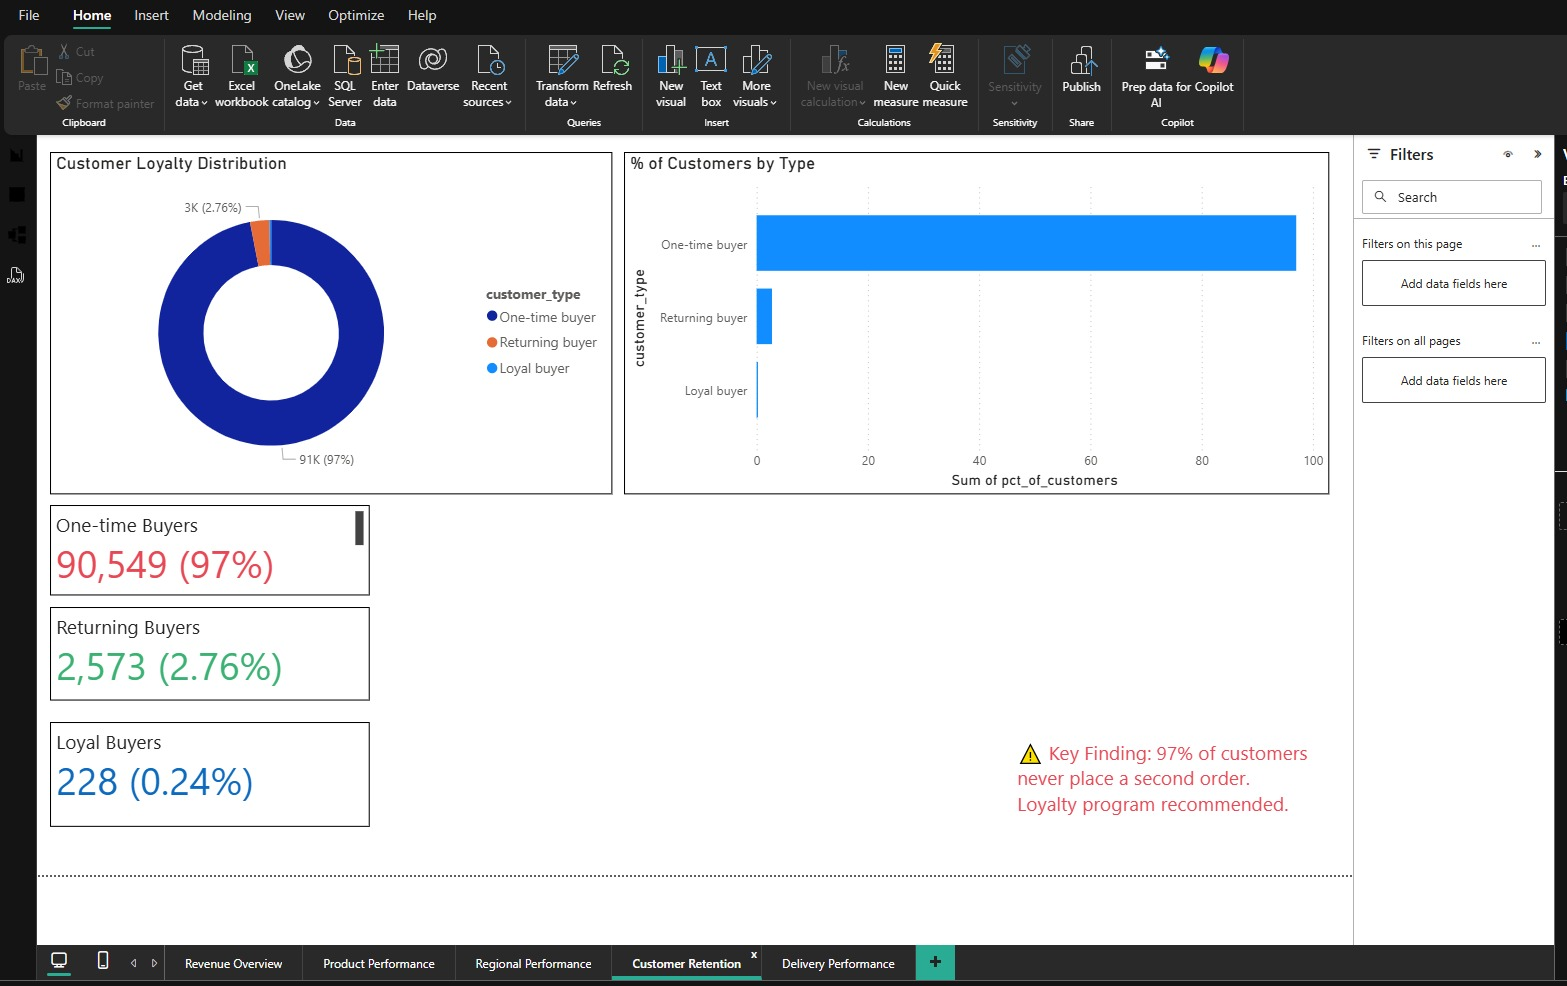

Layout of this report page (visuals, bound fields, positions):
{"tool":"powerbi","page":{"name":"Customer Retention","canvas":[1280,720],"ordinal":3},"visuals":[{"type":"donutChart","title":"Customer Loyalty Distribution","fields":{"Category":["kpi_customer_retention.customer_type"],"Y":["Sum(kpi_customer_retention.total_customers)"]},"box":[12.4,16.5,547.2,332.7],"z":0},{"type":"clusteredBarChart","title":"% of Customers by Type","fields":{"Category":["kpi_customer_retention.customer_type"],"Y":["Sum(kpi_customer_retention.pct_of_customers)"]},"box":[570.6,16.5,686.1,332.7],"z":1},{"type":"textbox","box":[12.4,360.2,310.7,88],"z":2},{"type":"textbox","box":[12.4,459.2,310.7,90.7],"z":3},{"type":"textbox","box":[12.4,570.6,310.7,101.7],"z":4},{"type":"textbox","box":[948.7,582.9,308,89.4],"z":5}]}

Visuals, with their boxes on the page's 1280x720 design canvas (x1, y1, x2, y2). These are canvas units, not pixel positions in the 1567x986 screenshot, which may show the page scaled, cropped or inside an application window:
"Customer Loyalty Distribution" donutChart: box(12, 16, 560, 349)
"% of Customers by Type" clusteredBarChart: box(571, 16, 1257, 349)
textbox: box(12, 360, 323, 448)
textbox: box(12, 459, 323, 550)
textbox: box(12, 571, 323, 672)
textbox: box(949, 583, 1257, 672)
